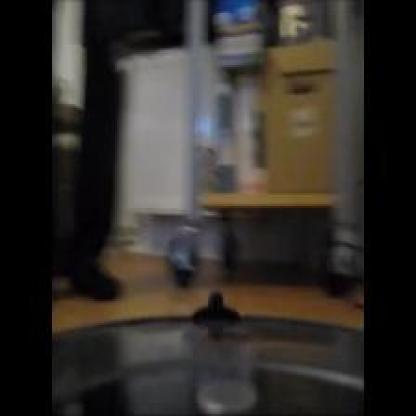other: (178, 64, 336, 218)
